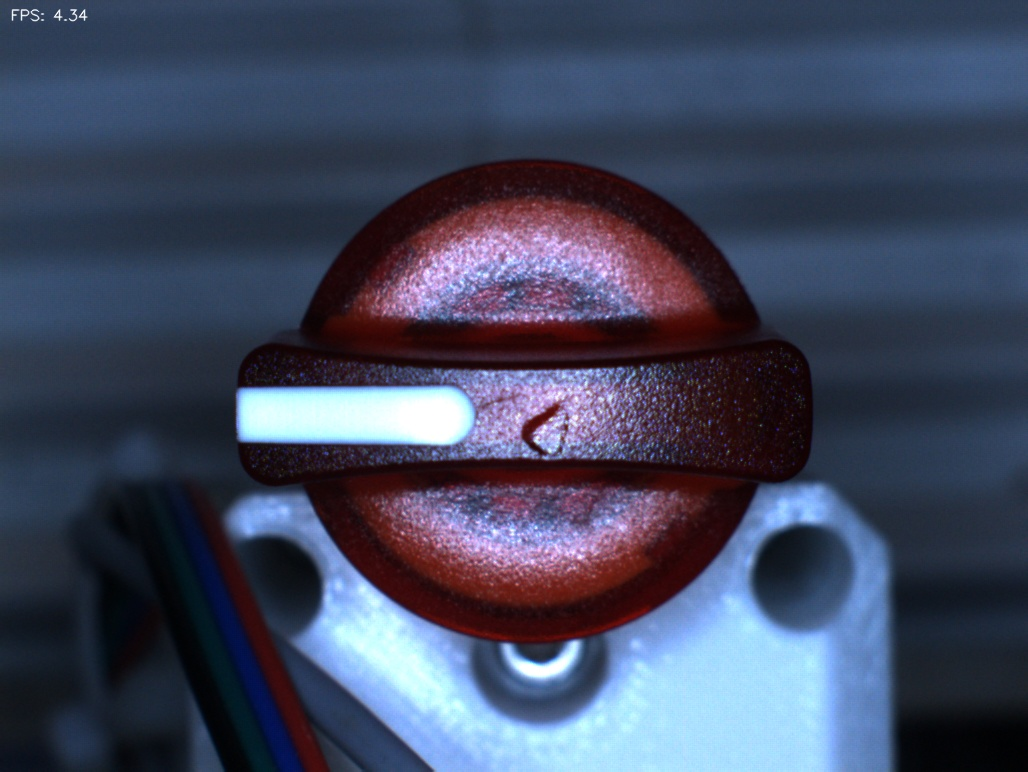Choc: (505, 392, 584, 471)
